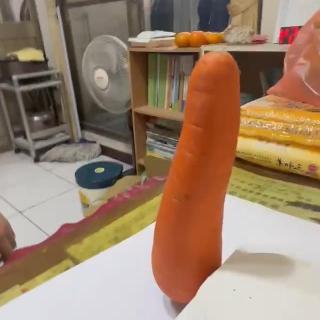carrot: (150, 50, 242, 308)
